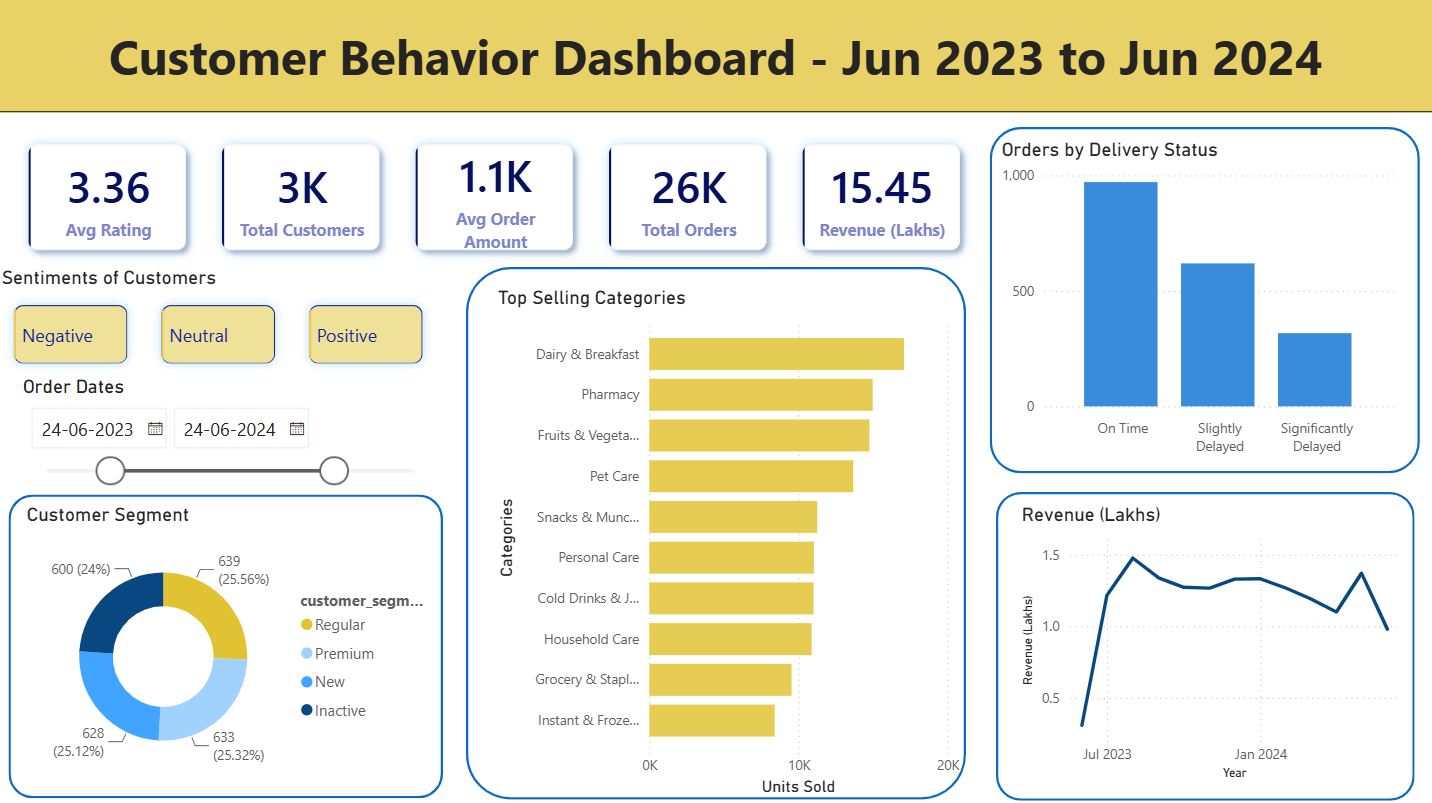

This screenshot's page, from the dashboard's own definition file:
{"tool":"powerbi","page":{"name":"Page 1","canvas":[1280,720],"ordinal":0},"visuals":[{"type":"cardVisual","fields":{"Data":["public blinkit_customer_feedback.Average Review Rating","public blinkit_customers.Number Of Customers","public blinkit_customer_feedback.Avergae Purchase Amount","public blinkit_customer_feedback.Total Orders","public blinkit_customer_feedback.Revenue (Lakhs)"]},"box":[0,102.5,888.8,152.5],"z":0},{"type":"shape","box":[11.2,442.5,386.2,270],"z":1000},{"type":"donutChart","title":"Customer Segment","fields":{"Category":["public blinkit_customers.customer_segment"],"Y":["CountNonNull(public blinkit_customers.customer_segment)"]},"box":[22.5,450,366.2,253.8],"z":2000},{"type":"donutChart","title":"Payment Method of Orders","fields":{"Category":["public blinkit_orders.payment_method"],"Y":["CountNonNull(public blinkit_orders.payment_method)"]},"box":[905,135,375,251.2],"z":3000},{"type":"barChart","title":"Top Selling Categories","fields":{"Category":["public blinkit_products.category"],"Y":["Sum(public blinkit_products.price)"]},"box":[441.2,256.2,420,458.8],"z":4000},{"type":"clusteredColumnChart","title":"Delivery Status of Orders","fields":{"Category":["public blinkit_delivery_performance.delivery_status"],"Y":["CountNonNull(public blinkit_delivery_performance.rreasons_if_delayed)"]},"box":[900,413.8,358.8,290],"z":5000},{"type":"advancedSlicerVisual","title":"Sentiments of Customers","fields":{"Values":["public blinkit_customer_feedback.sentiment"]},"box":[0,238.8,397.5,103.8],"z":6000},{"type":"shape","box":[888.8,115,382.5,281.2],"z":7000},{"type":"shape","box":[888.8,405,382.5,307.5],"z":8000},{"type":"shape","box":[428.8,238.8,445,473.8],"z":9000},{"type":"slicer","title":"Order Dates","fields":{"Values":["public blinkit_orders.order_date"]},"box":[18.8,335,375,103.8],"z":10000},{"type":"cardVisual","fields":{"Data":["public blinkit_customer_feedback.Dashboard Title"]},"box":[0,0,1280,102.5],"z":11000}]}

Visuals, with their boxes in screenshot pixels (x1, y1, x2, y2), scaled from the page's 1280x720 canvas onto the 1432x803 screenshot:
cardVisual - public blinkit_customer_feedback.Average Review Rating x public blinkit_customers.Number Of Customers: (0,114,994,284)
shape: (13,494,445,795)
"Customer Segment" donutChart: (25,502,435,785)
"Payment Method of Orders" donutChart: (1012,151,1431,431)
"Top Selling Categories" barChart: (494,286,963,797)
"Delivery Status of Orders" clusteredColumnChart: (1007,462,1408,785)
"Sentiments of Customers" advancedSlicerVisual: (0,266,445,382)
shape: (994,128,1422,442)
shape: (994,452,1422,795)
shape: (480,266,978,795)
"Order Dates" slicer: (21,374,441,489)
cardVisual - public blinkit_customer_feedback.Dashboard Title: (0,0,1431,114)
